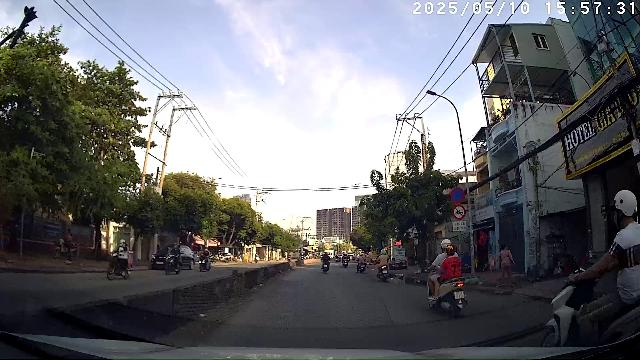131a-cam-do-xe: (450, 187, 465, 203)
